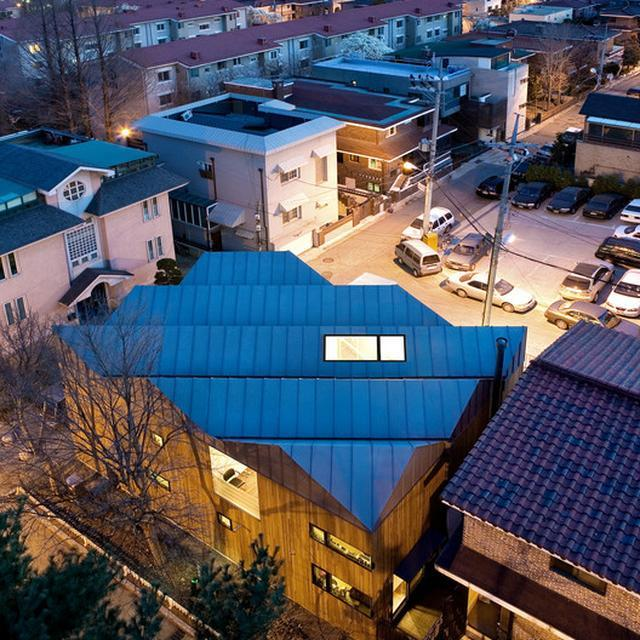building: (43, 248, 536, 634), (443, 270, 640, 640), (100, 0, 469, 114), (0, 120, 177, 356), (123, 75, 339, 268), (276, 63, 447, 209), (325, 48, 473, 138), (438, 32, 534, 132)
